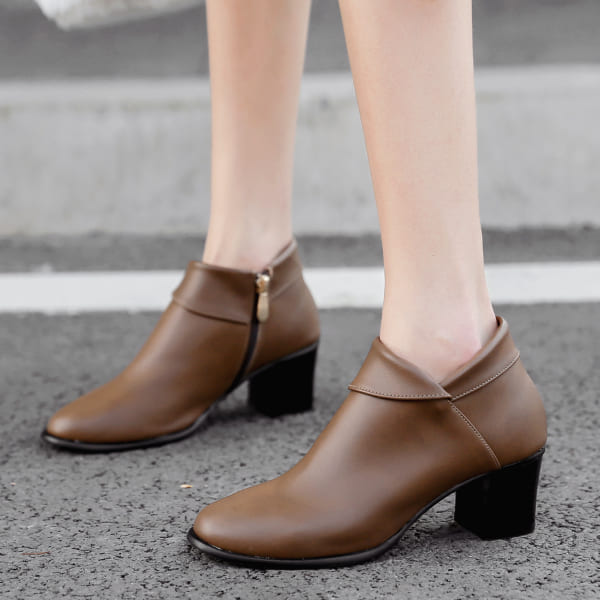woman_hight_shoe: (36, 237, 568, 580)
